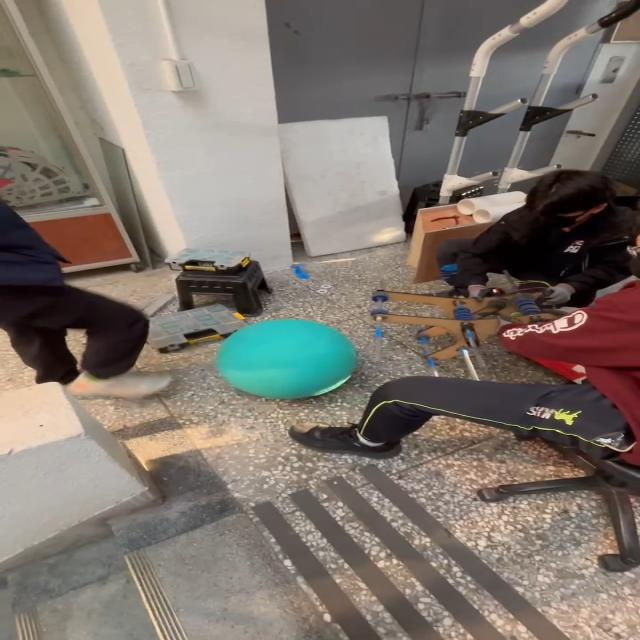ALGAE: (214, 318, 358, 400)
